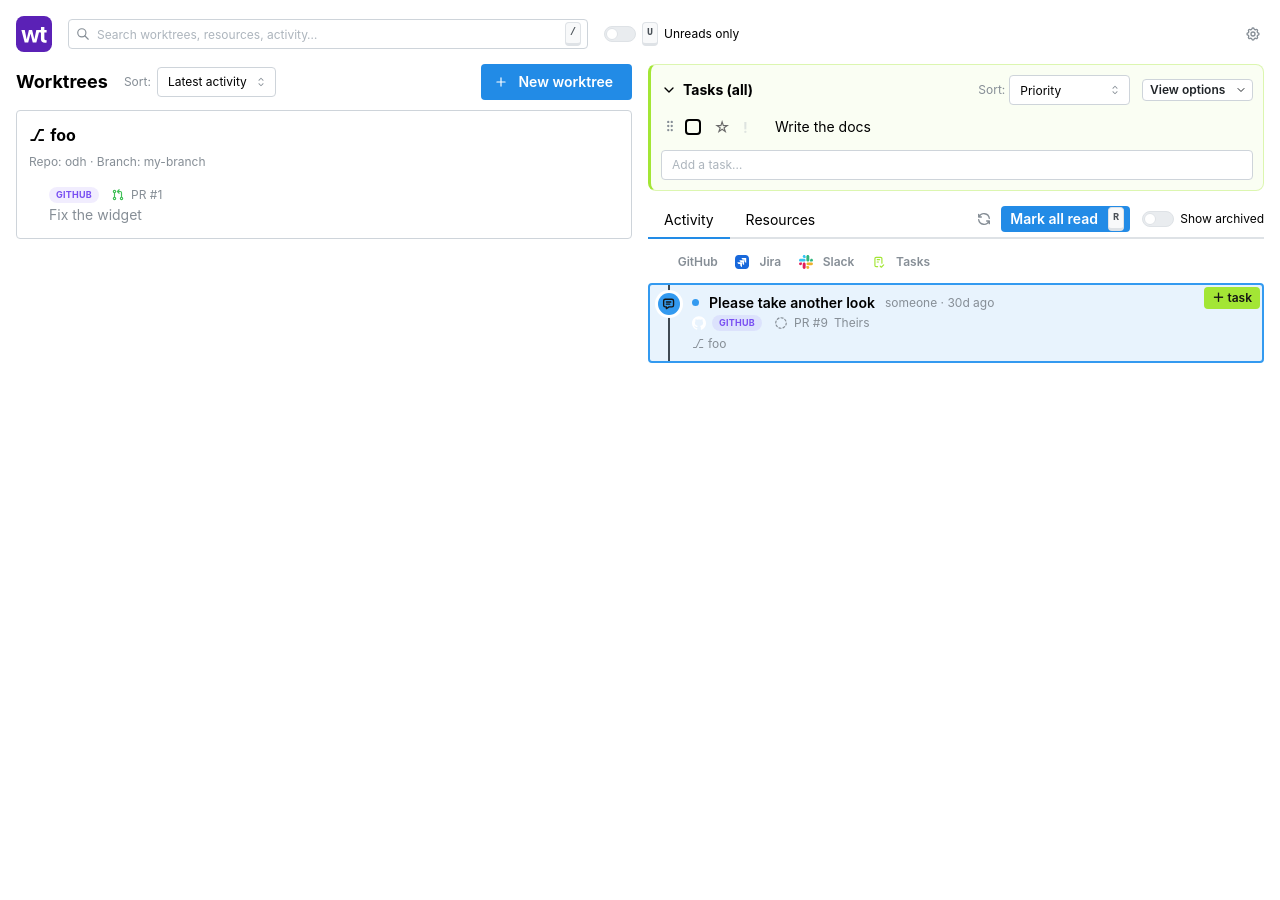
Test: HomePage mark all read › a previewed event opens its details over the modal, and stays on the page
The image size is (1280, 900).
Click the button "Mark all read R".
click(1066, 219)  # box [1001,206,1130,232]
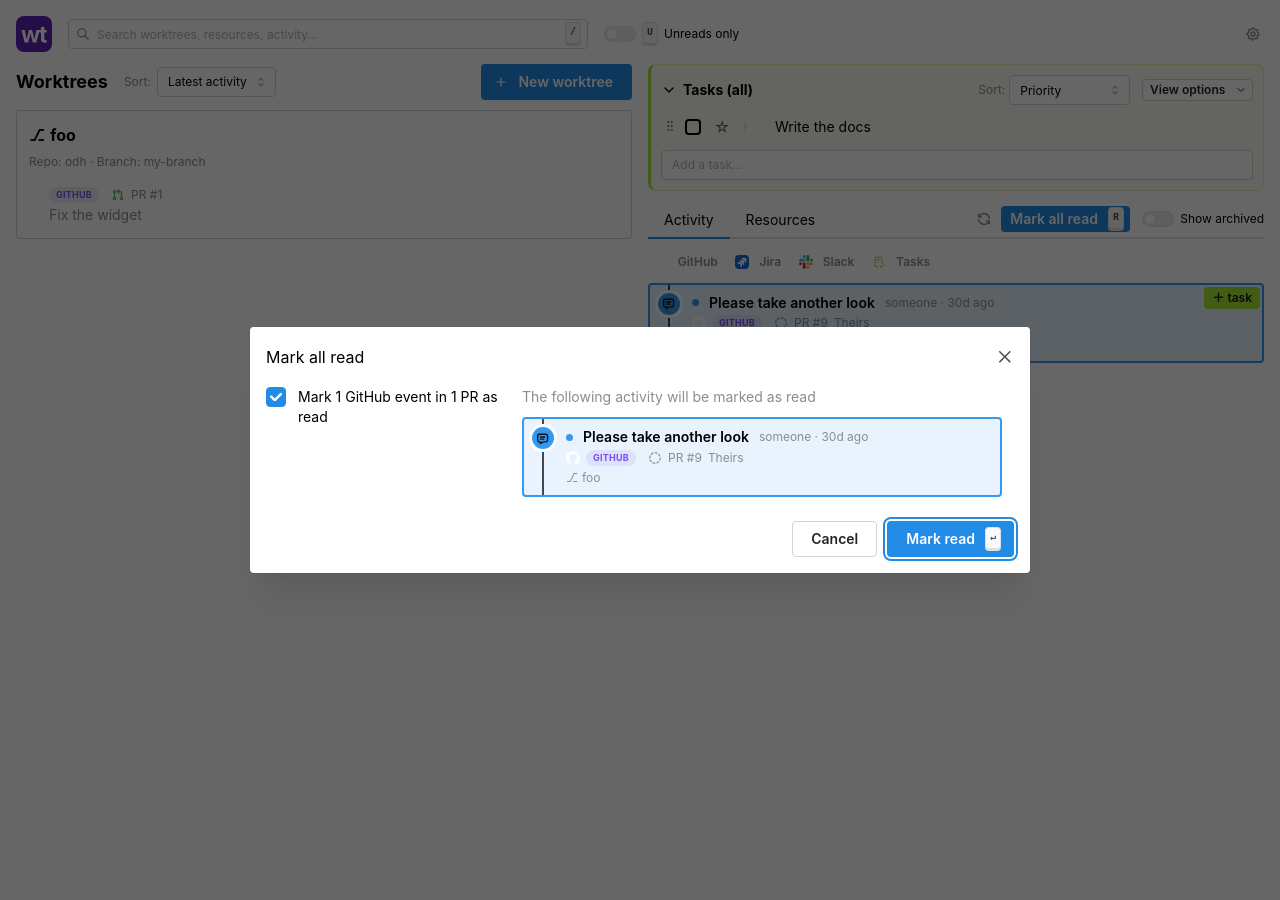
Click the text "Please take another look".
click(666, 437)  # box [583,427,749,448]
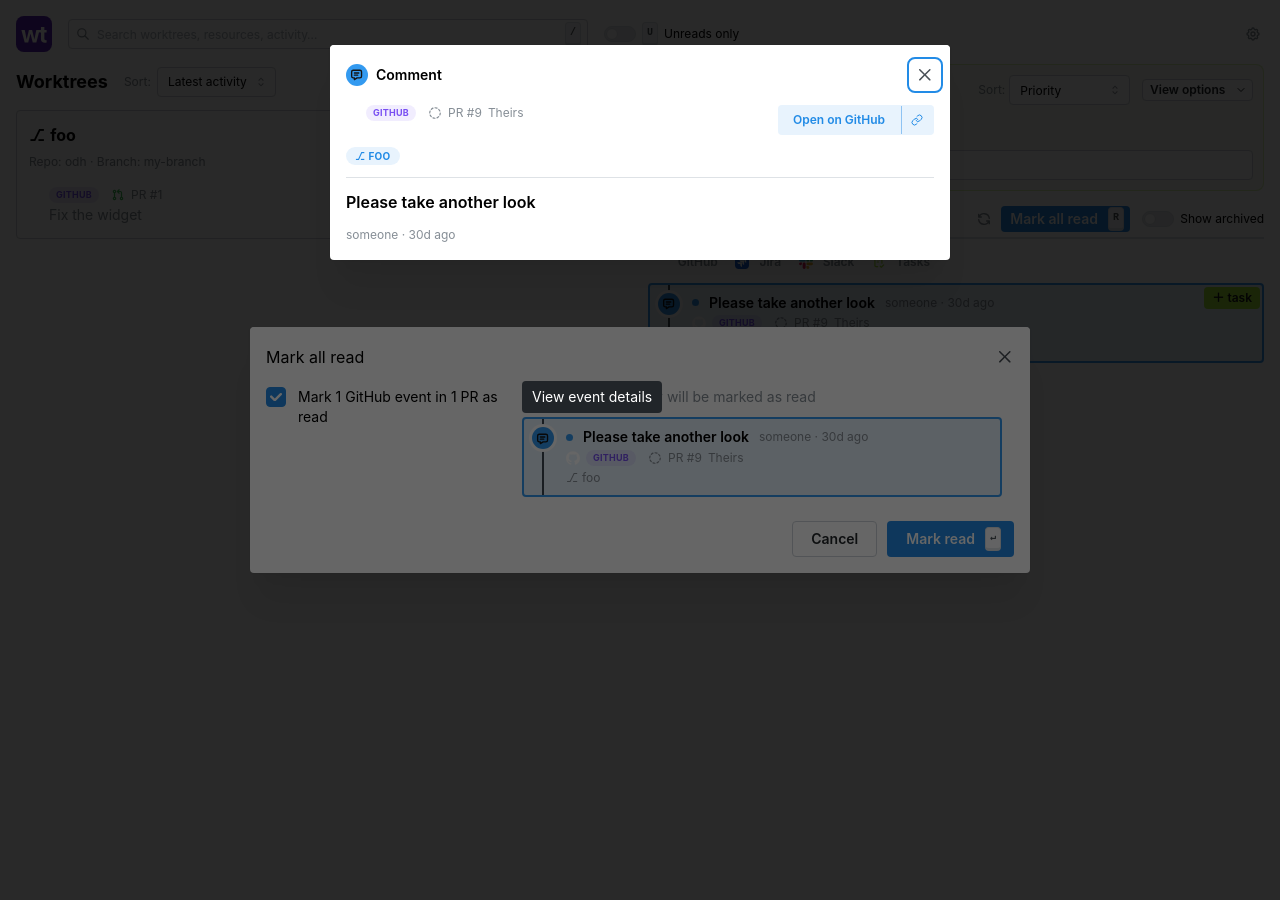
Expected: the dialog "Mark all read" is shown, [250,327,1030,573]
Expected: the number of dialogs is 2, [250,327,1030,573]; [330,45,950,260]
